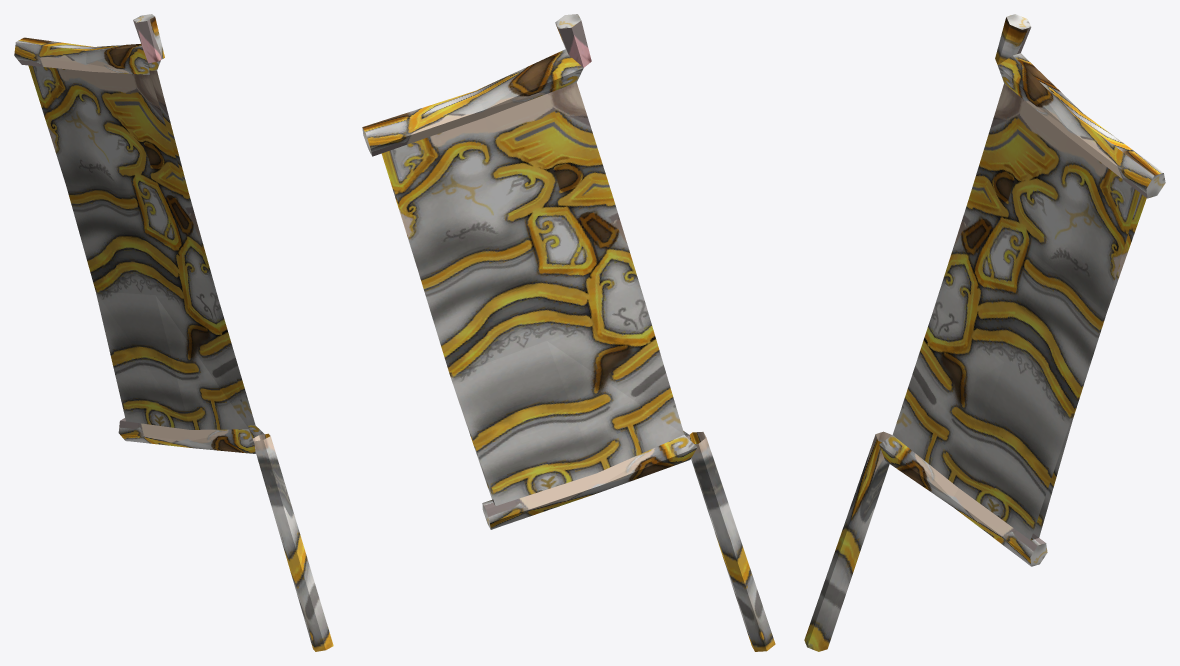
Rendered from Sheep_championFlag.obj.
3 views of the same model, side by side, from view 1: azimuth 90°, elevation 25°; view 2: azimuth 150°, elevation 25°; view 3: azimuth 270°, elevation 25° (orthographic). The views are drawn at different scales.
Visible parts, largest first — view 1: Sheep_championFlag_tri; view 2: Sheep_championFlag_tri; view 3: Sheep_championFlag_tri.
Boxes of the visible parts, x1=… form: Sheep_championFlag_tri: x1=14, y1=14, x2=333, y2=651; Sheep_championFlag_tri: x1=362, y1=14, x2=775, y2=651; Sheep_championFlag_tri: x1=804, y1=14, x2=1165, y2=651.
Bounding box in the file's own units: 0.3931 × 1.05 × 0.5121.
1 material, 1 textured.
